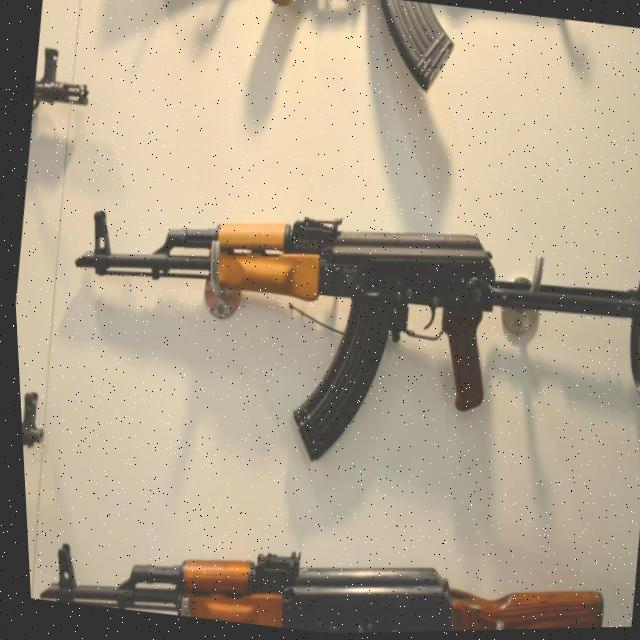firearm: (41, 174, 640, 516), (25, 506, 601, 640), (123, 0, 311, 15), (16, 381, 48, 457)
